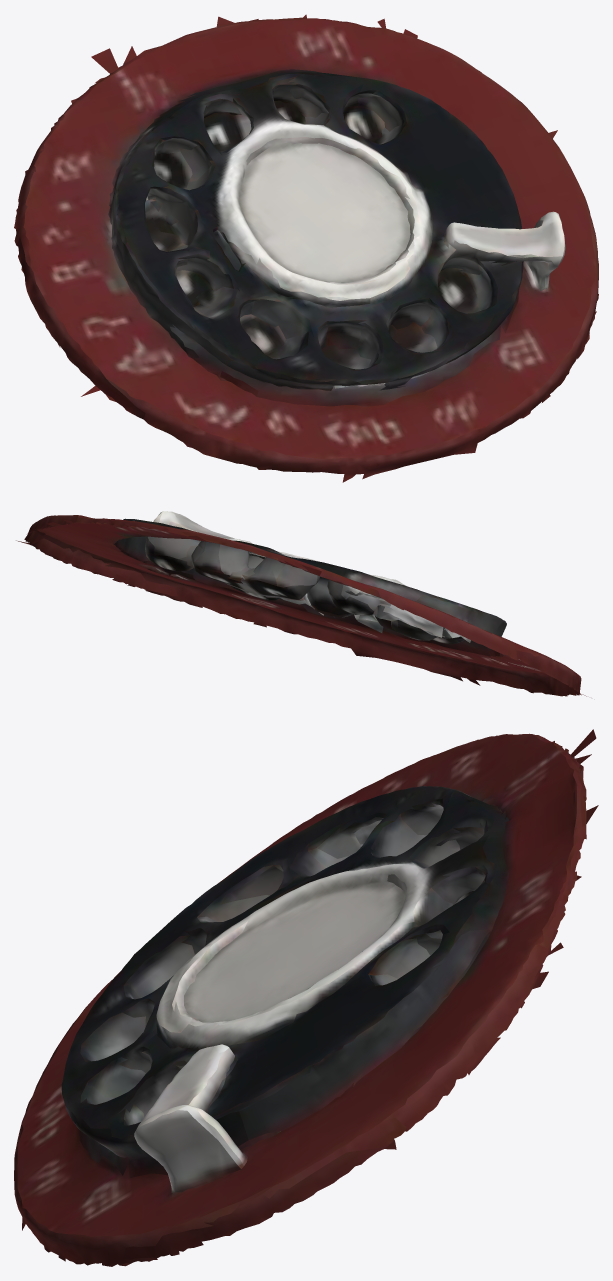
3 renders of one model, top to bottom at view 1: azimuth 30°, elevation 25°; view 2: azimuth 150°, elevation 25°; view 3: azimuth 270°, elevation 25°, orthographic. The views are drawn at different scales.
Parts seen in each view (by area): view 1: world; view 2: world; view 3: world.
Boxes of the visible parts, x1=… form: world: x1=14, y1=14, x2=598, y2=482; world: x1=16, y1=511, x2=586, y2=696; world: x1=14, y1=729, x2=598, y2=1266.
Size of the model in its own units: 0.106 by 0.0542 by 0.0723.
1 material, 1 textured.
